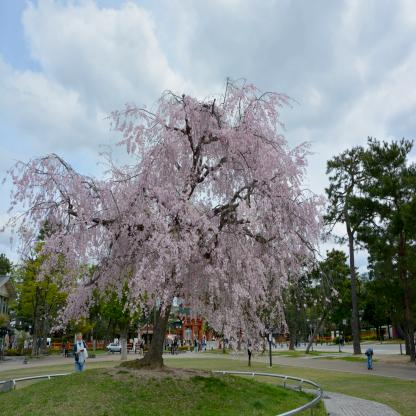ShidareZakura: (0, 76, 342, 359)
